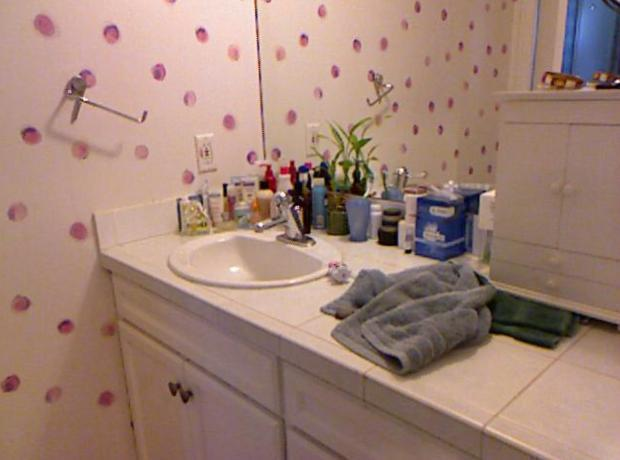Lavamanos: (168, 187, 344, 301)
